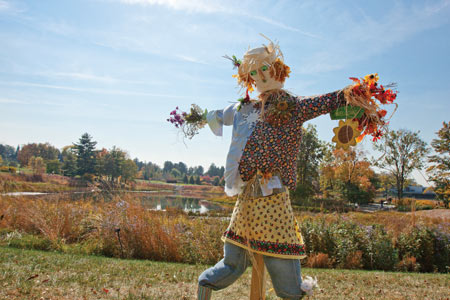person-like: (186, 39, 386, 300)
